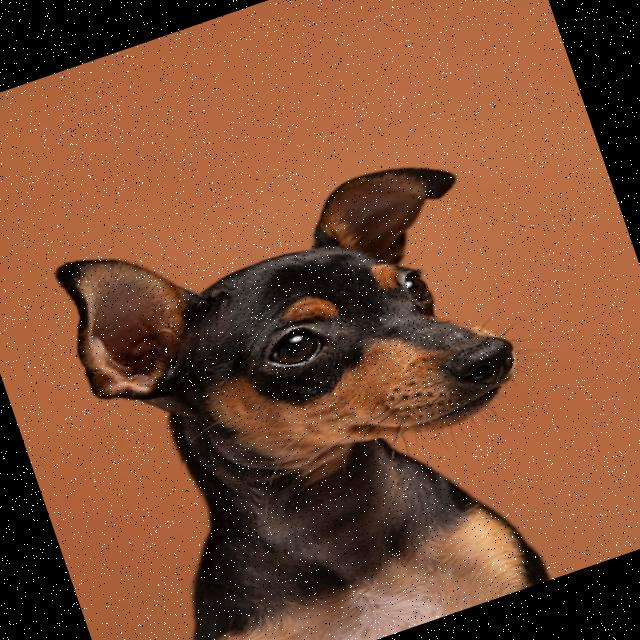Dog: (45, 131, 589, 640)
